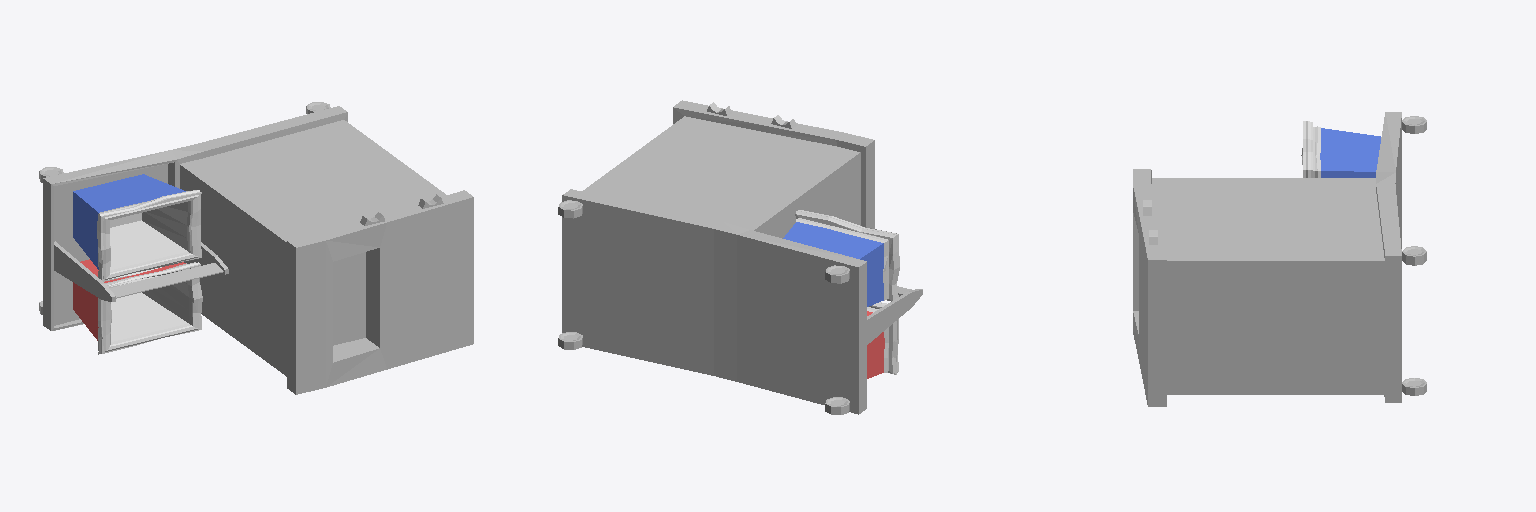
3 renders of one model, left to right at view 1: azimuth 30°, elevation 25°; view 2: azimuth 150°, elevation 25°; view 3: azimuth 270°, elevation 25°, orthographic.
Parts seen in each view (by area): view 1: cart_Cube.005, blue_Cube.000, red_Cube.001; view 2: cart_Cube.005, blue_Cube.000, red_Cube.001; view 3: cart_Cube.005, blue_Cube.000.
Boxes of the visible parts, x1,y1,x2,y2 form: cart_Cube.005: [39, 102, 473, 394]; blue_Cube.000: [73, 174, 201, 281]; red_Cube.001: [73, 259, 202, 354]; cart_Cube.005: [558, 100, 922, 414]; blue_Cube.000: [783, 210, 899, 306]; red_Cube.001: [867, 302, 898, 378]; cart_Cube.005: [1133, 112, 1426, 406]; blue_Cube.000: [1301, 121, 1380, 177].
Bounding box in the file's own units: 1.1 × 0.5333 × 0.925.
3 materials, 2 textured.